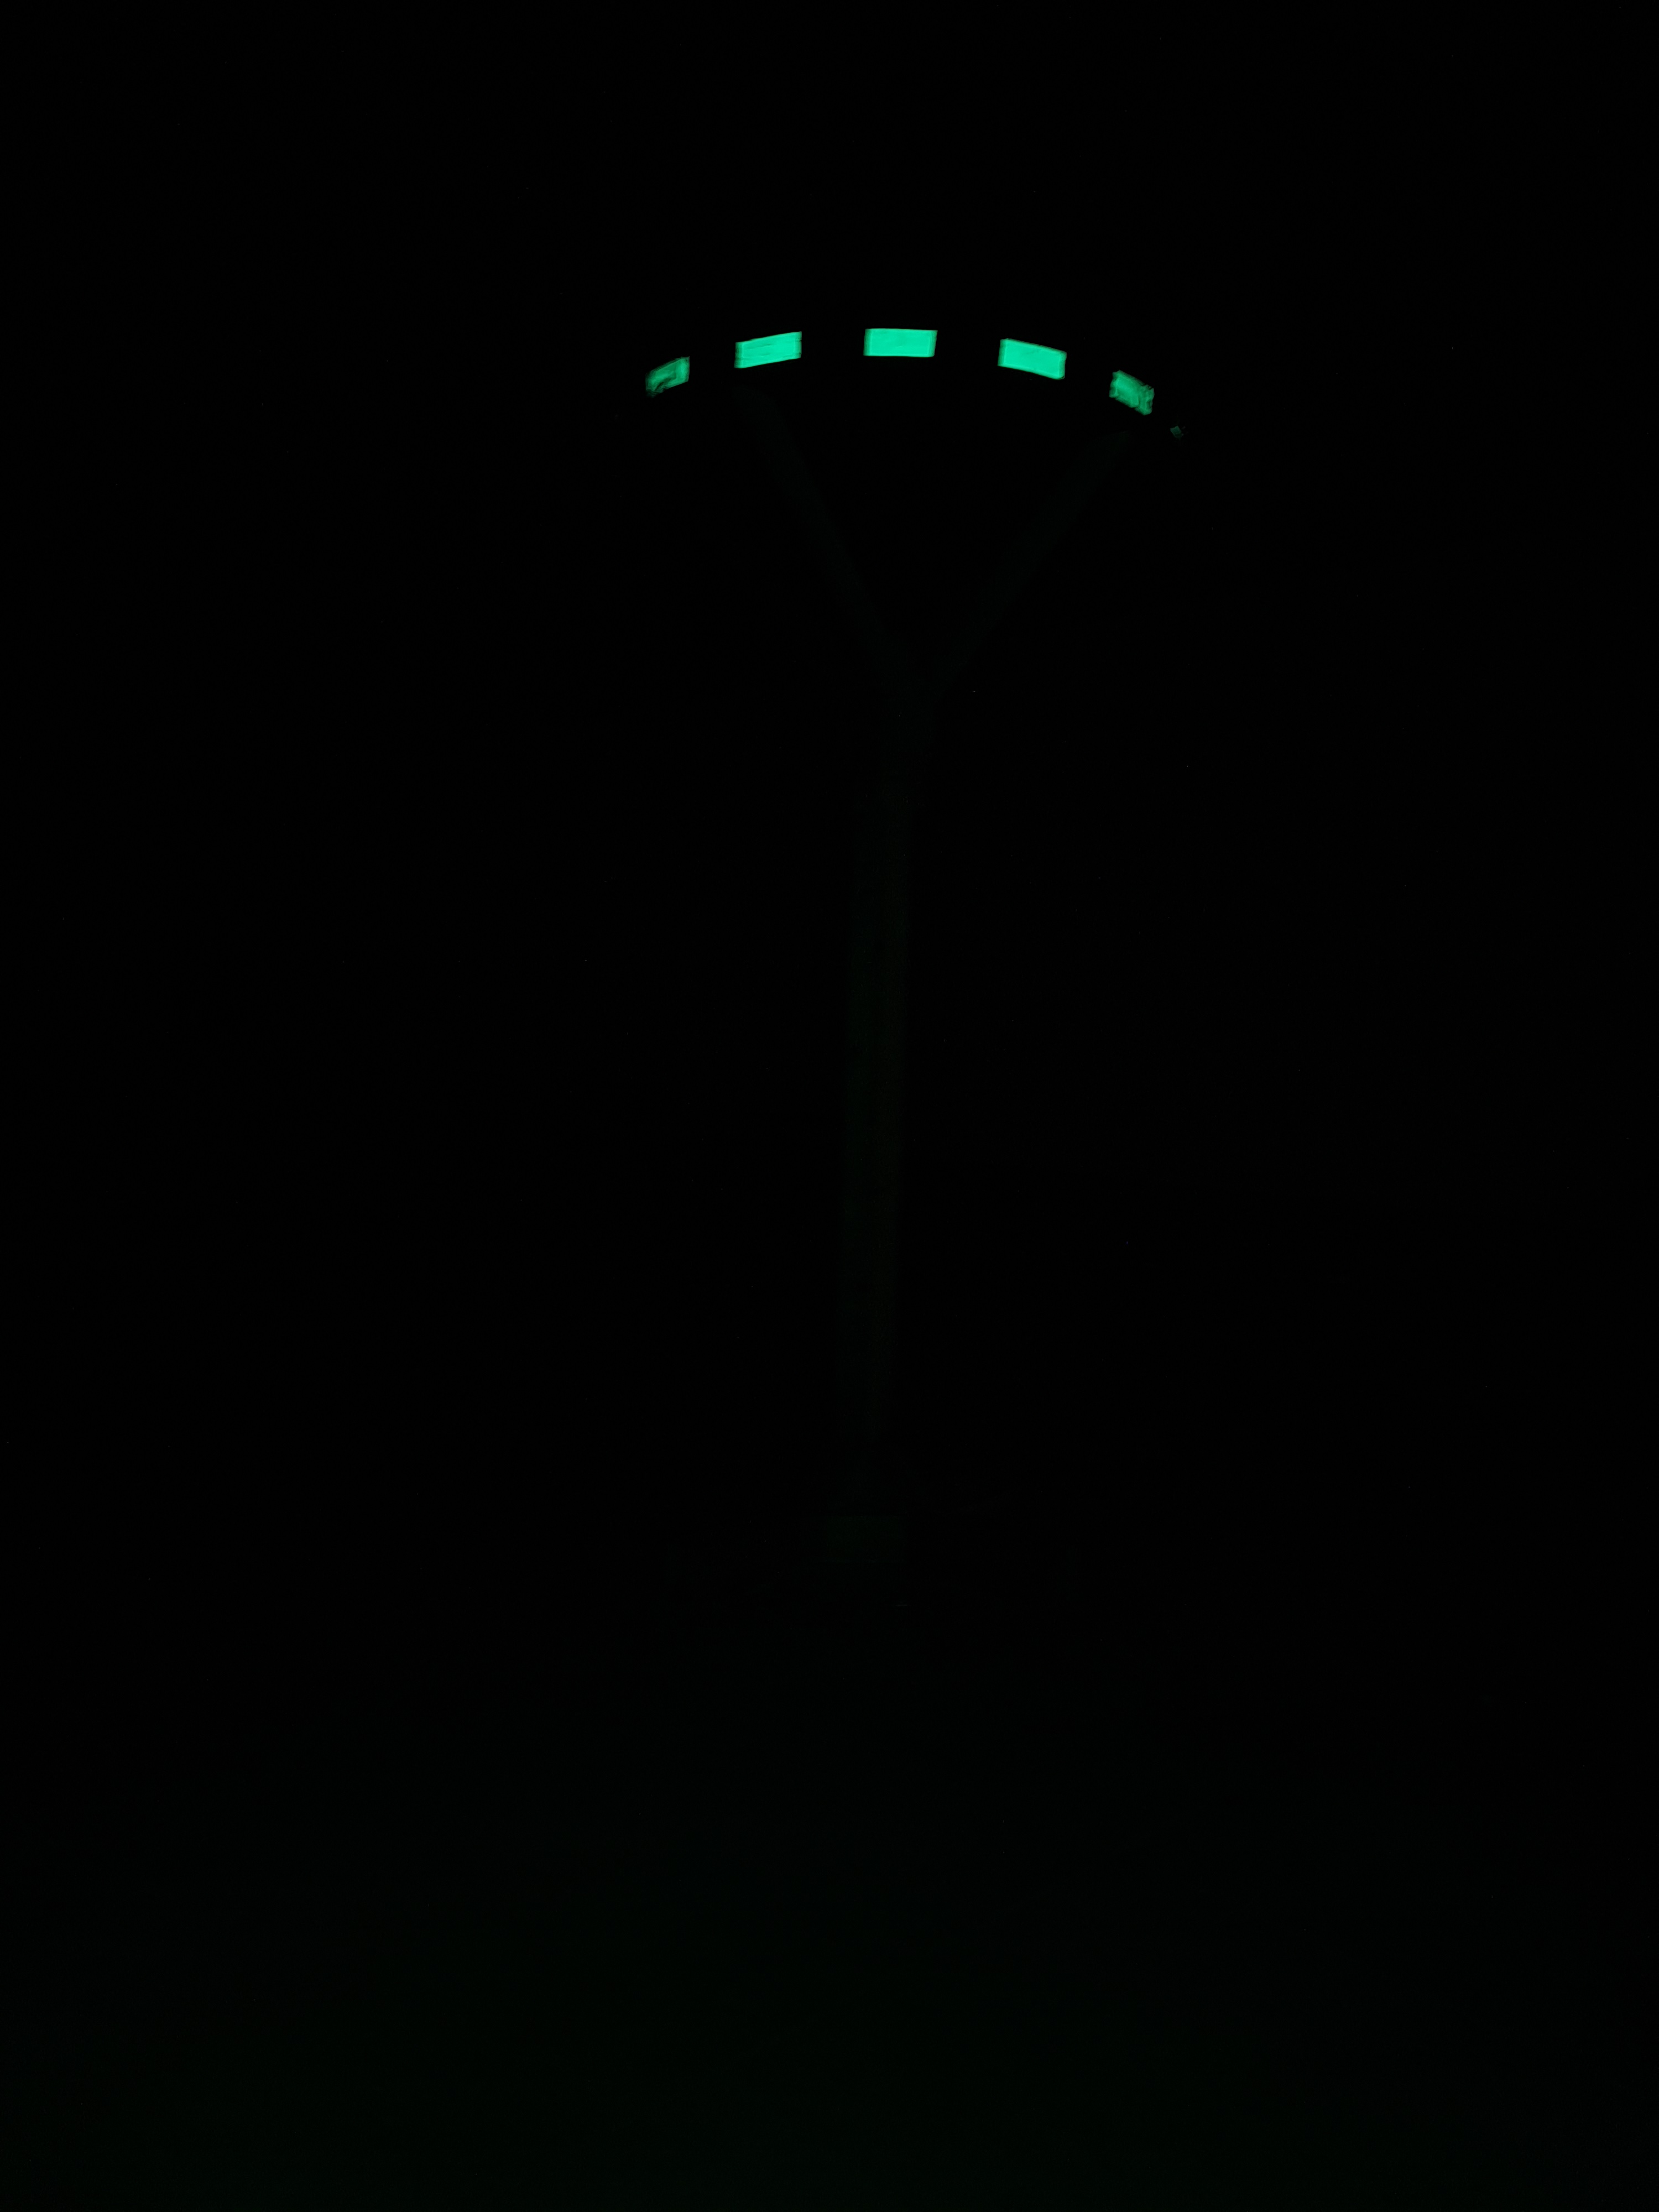hoop: (648, 322, 1154, 421)
